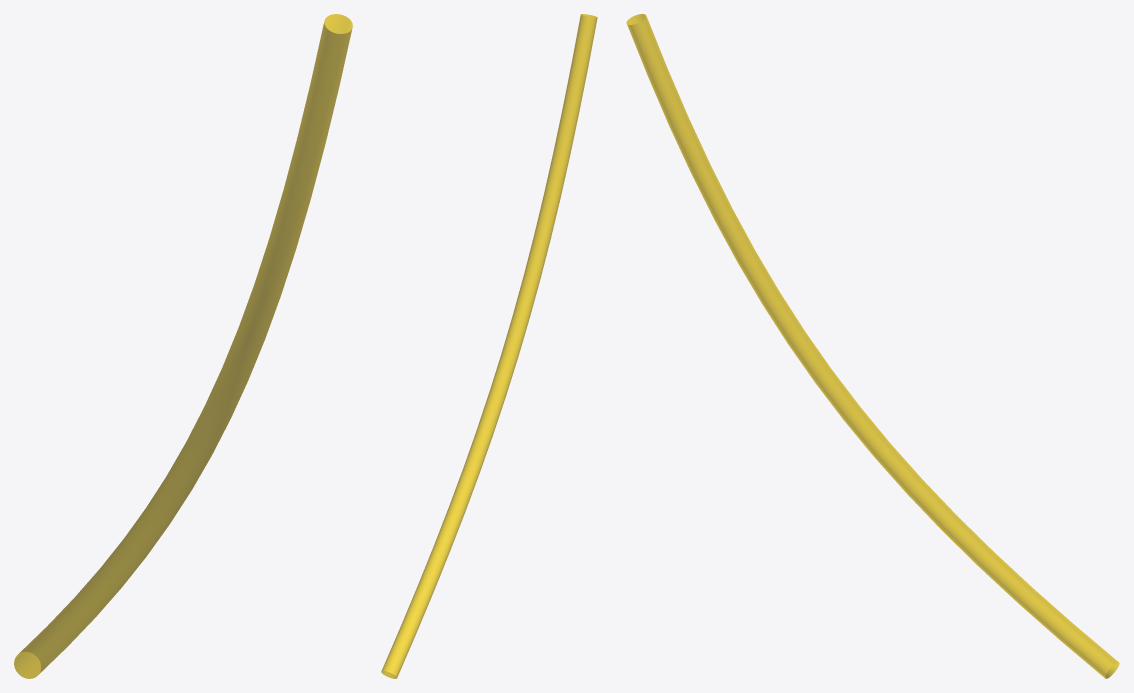
Rendered from Event_17758602_track_131.fbx.
3 views of the same model, side by side, from view 1: azimuth 30°, elevation 25°; view 2: azimuth 150°, elevation 25°; view 3: azimuth 270°, elevation 25° (orthographic). The views are drawn at different scales.
Parts seen in each view (by area): view 1: Model; view 2: Model; view 3: Model.
Part boxes in pixels (left/top/right/bottom): Model: left=14, top=14, right=352, bottom=678; Model: left=381, top=14, right=597, bottom=678; Model: left=626, top=14, right=1119, bottom=678.
Bounding box in the file's own units: 0.0623 × 1.36 × 0.9264.
